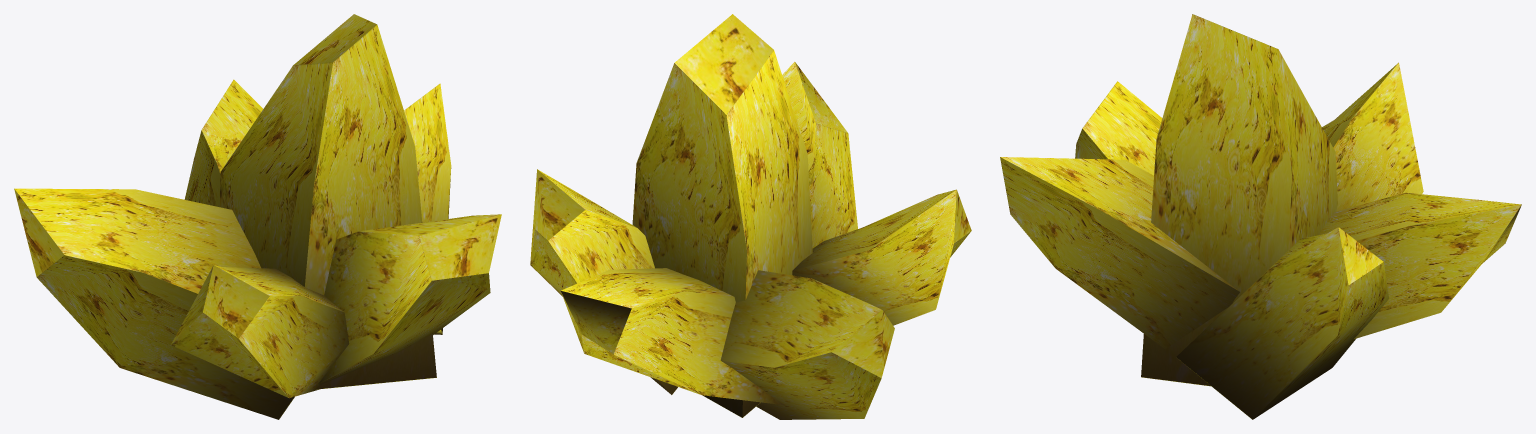
File: static.fbx
3 views of the same model, side by side, from view 1: azimuth 30°, elevation 25°; view 2: azimuth 150°, elevation 25°; view 3: azimuth 270°, elevation 25° (orthographic). The views are drawn at different scales.
Parts seen in each view (by area): view 1: Cube, Cube_2, Cube_3, Cube_5, Cube_4, Cube_1; view 2: Cube, Cube_2, Cube_4, Cube_5, Cube_1, Cube_3; view 3: Cube, Cube_3, Cube_1, Cube_4, Cube_2, Cube_5.
Boxes of the visible parts, x1,y1,x2,y2 form: Cube: (220,14,436,389); Cube_2: (14,188,294,419); Cube_3: (318,214,501,384); Cube_5: (171,265,349,398); Cube_4: (184,79,262,207); Cube_1: (404,83,451,334); Cube: (632,14,812,417); Cube_2: (720,270,894,419); Cube_4: (561,268,784,405); Cube_5: (792,189,971,325); Cube_1: (530,169,677,394); Cube_3: (782,62,857,248); Cube: (1141,14,1337,386); Cube_3: (1000,157,1239,348); Cube_1: (1176,227,1388,419); Cube_4: (1319,192,1521,338); Cube_2: (1322,62,1423,211); Cube_5: (1075,81,1162,175).
Size of the model in its own units: 86.09 by 80.45 by 95.35.
1 material, 1 textured.
